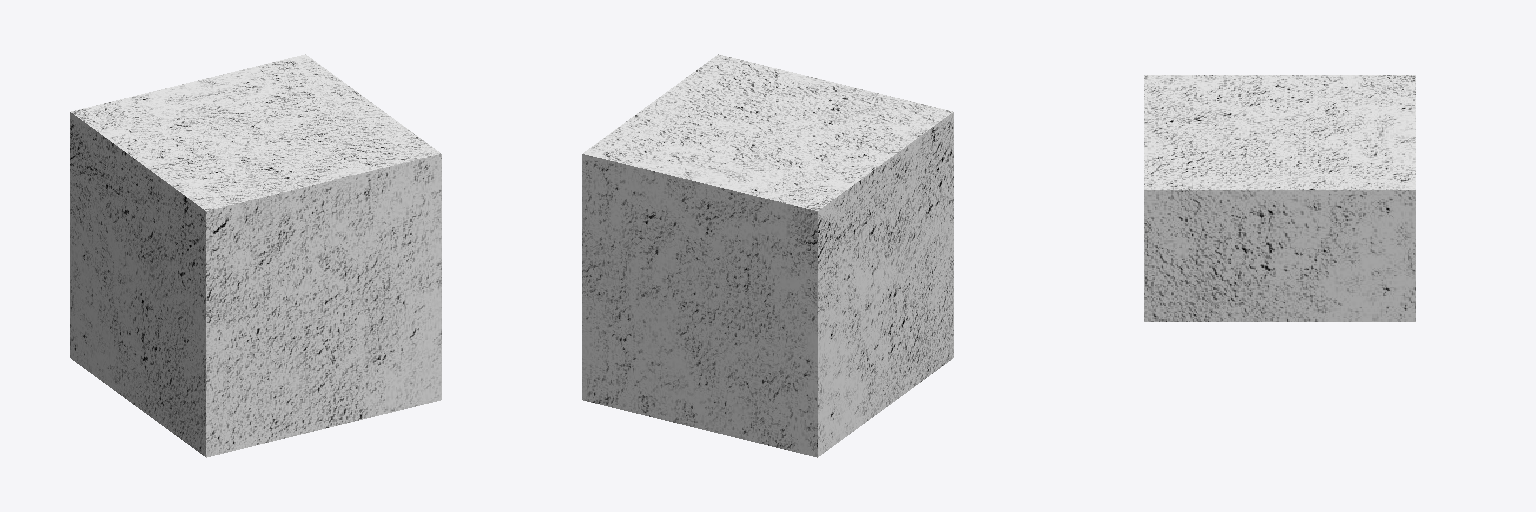
The picture shows the model from 3 angles: view 1: azimuth 30°, elevation 25°; view 2: azimuth 150°, elevation 25°; view 3: azimuth 270°, elevation 25°; orthographic projection.
Visible parts, largest first — view 1: Cube_Cube.001; view 2: Cube_Cube.001; view 3: Cube_Cube.001.
Part boxes in pixels (bbox=[...]): Cube_Cube.001: bbox=[70, 54, 441, 457]; Cube_Cube.001: bbox=[582, 54, 953, 457]; Cube_Cube.001: bbox=[1144, 75, 1415, 321].
Size of the model in its own units: 2 by 2 by 2.
1 materials, 1 textured.